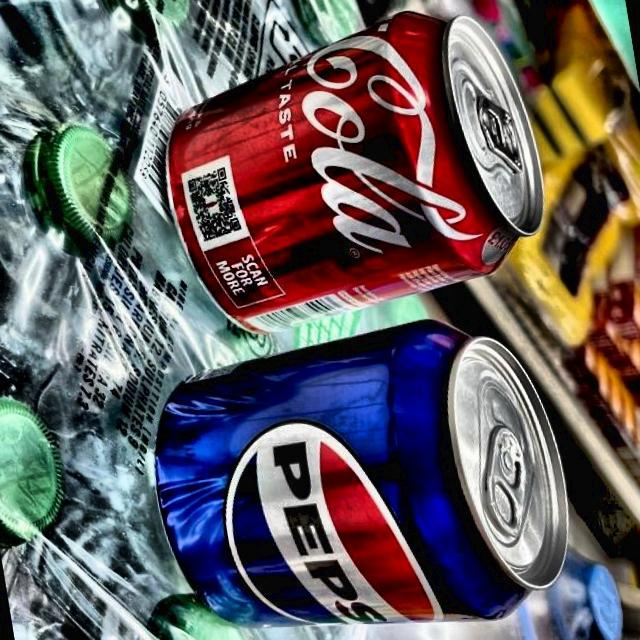coke-can: (170, 20, 545, 339)
pepsi-can: (139, 332, 566, 629)
